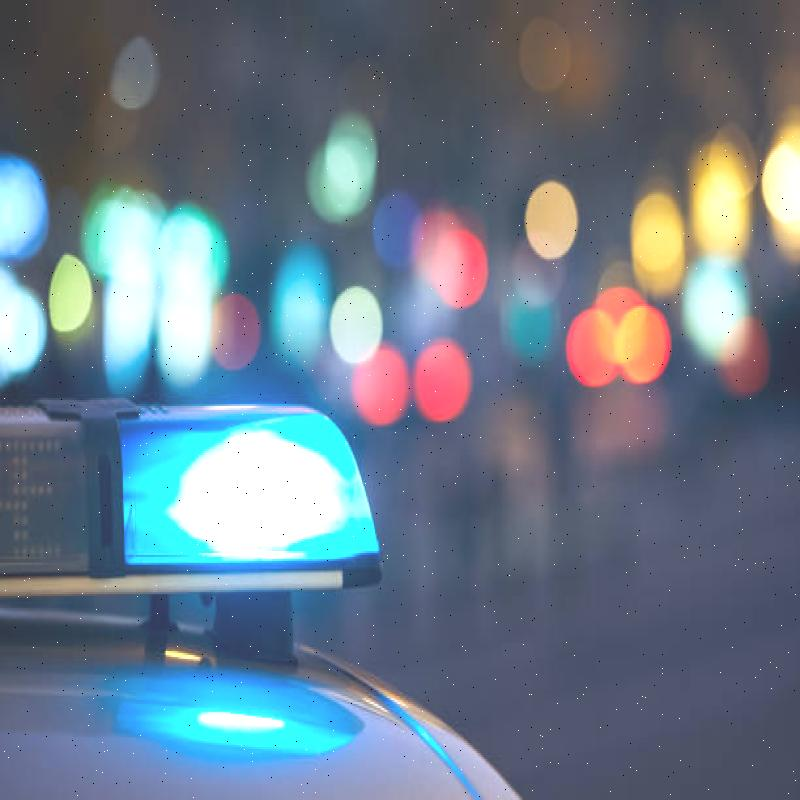AmbulanceSiren: (0, 363, 420, 633)
